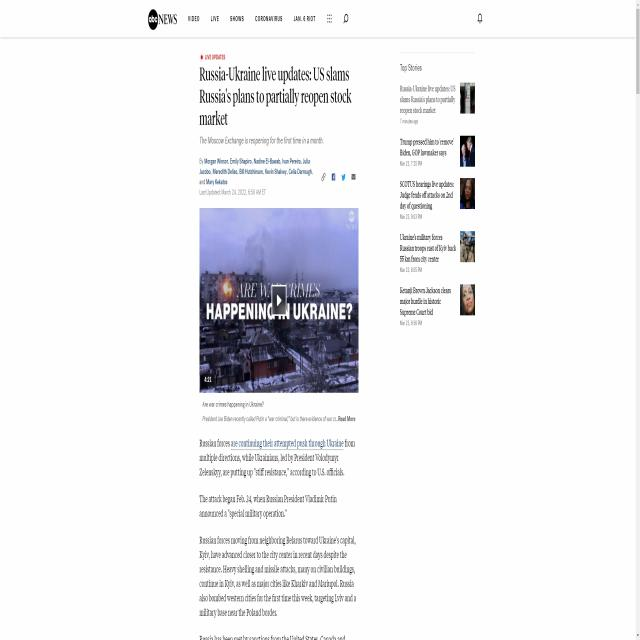search: (339, 8, 351, 32)
tab-bar: (144, 1, 352, 35)
